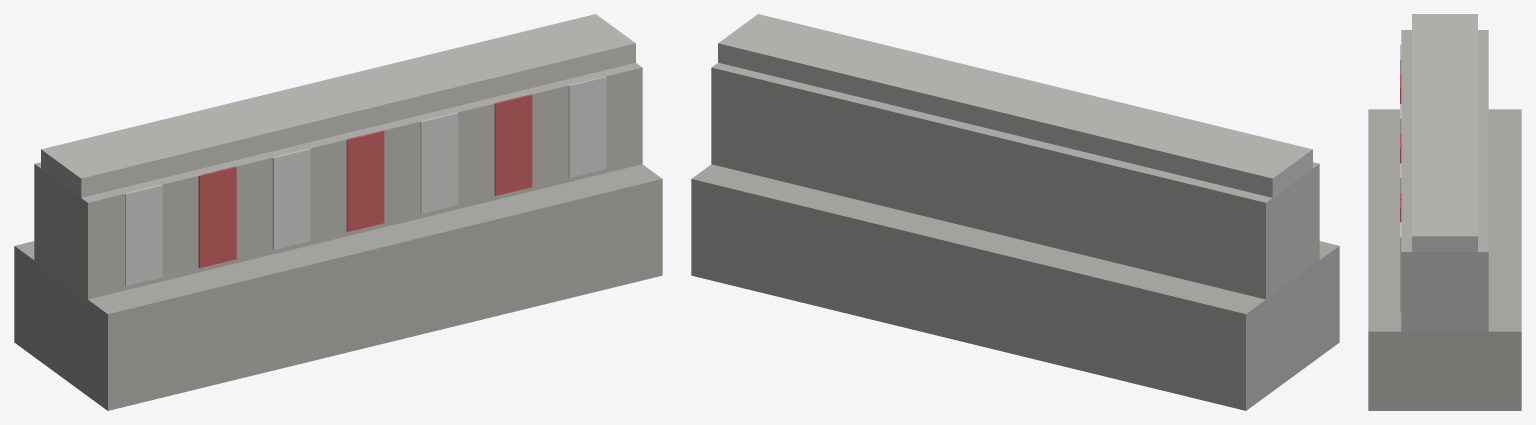
Rendered from barreira.glb.
3 views of the same model, side by side, from view 1: azimuth 30°, elevation 25°; view 2: azimuth 150°, elevation 25°; view 3: azimuth 270°, elevation 25° (orthographic). The views are drawn at different scales.
Visible parts, largest first — view 1: barreira_concreto; view 2: barreira_concreto; view 3: barreira_concreto.
Part boxes in pixels (x1=…): barreira_concreto: x1=14, y1=14, x2=662, y2=410; barreira_concreto: x1=691, y1=14, x2=1339, y2=410; barreira_concreto: x1=1368, y1=14, x2=1521, y2=410.
Bounding box in the file's own units: 2.4 × 0.88 × 0.7.
